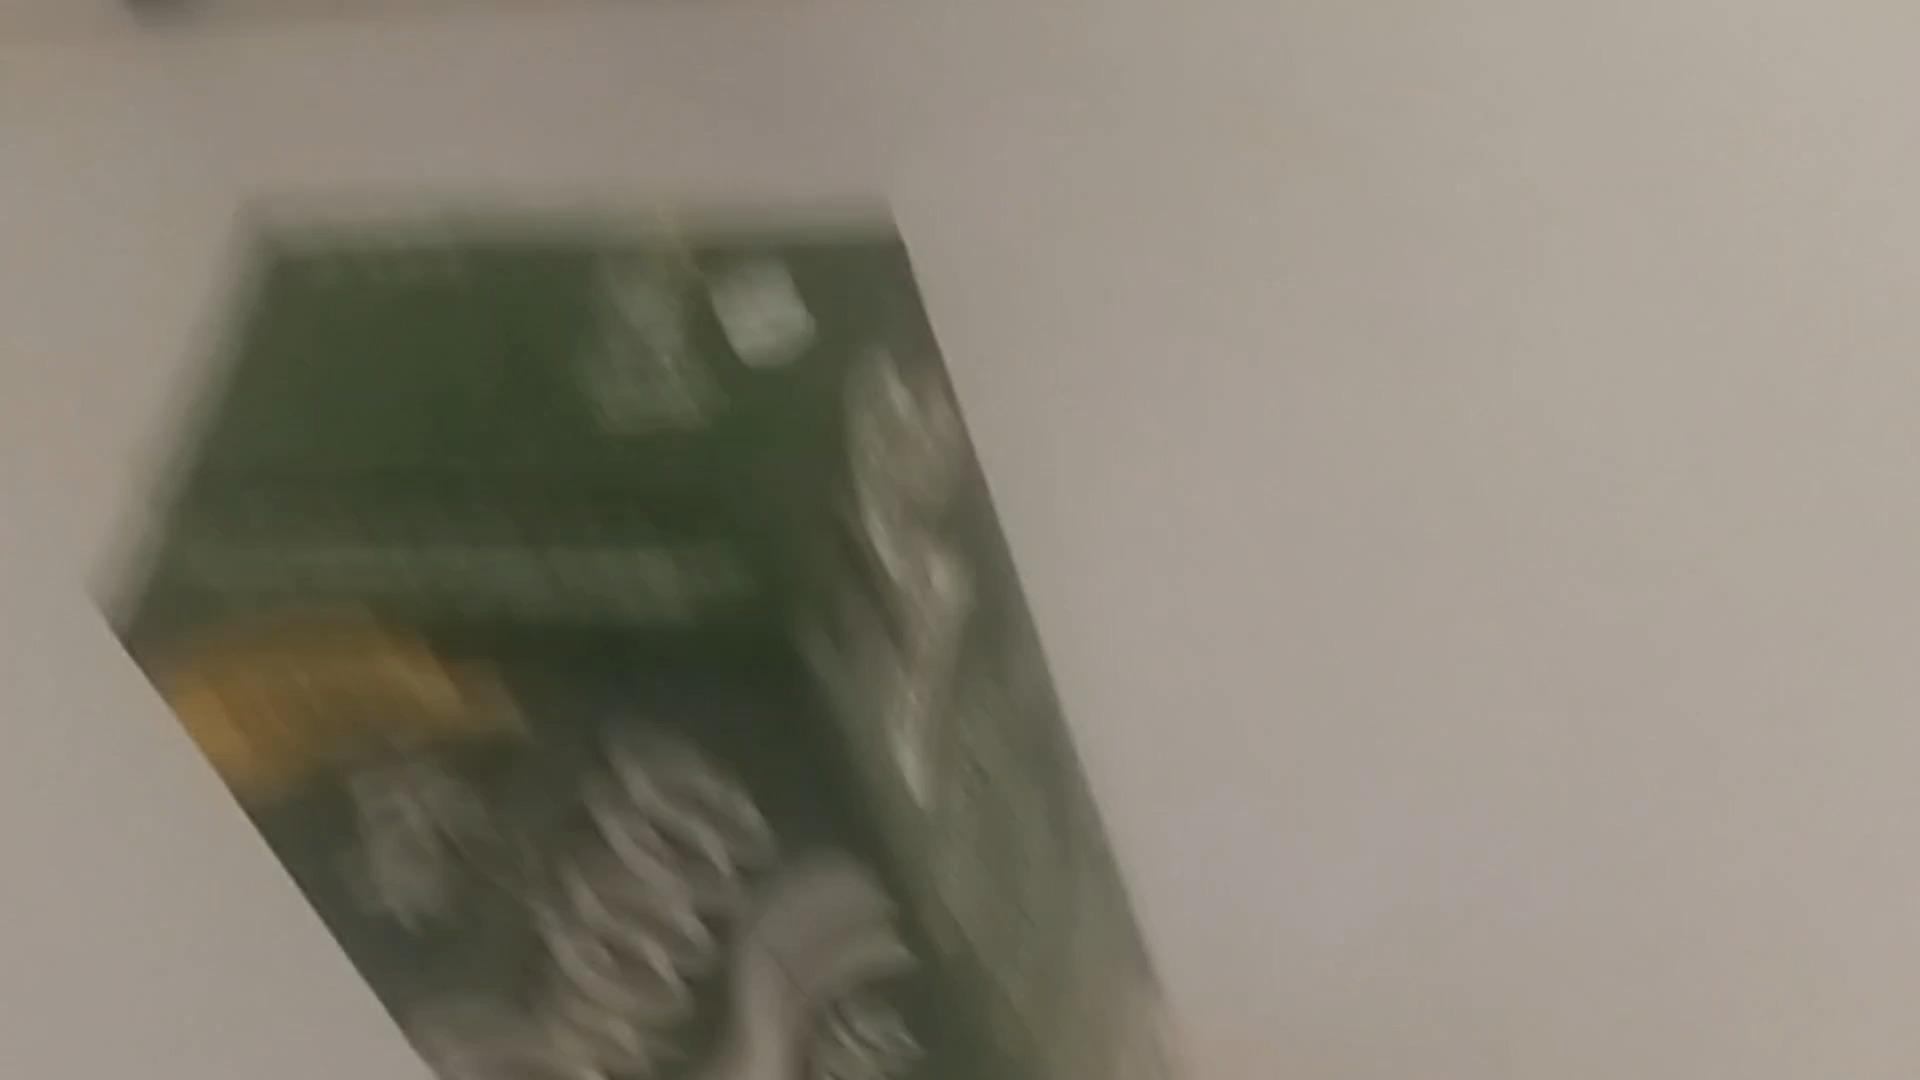coco: (131, 223, 1195, 1080)
